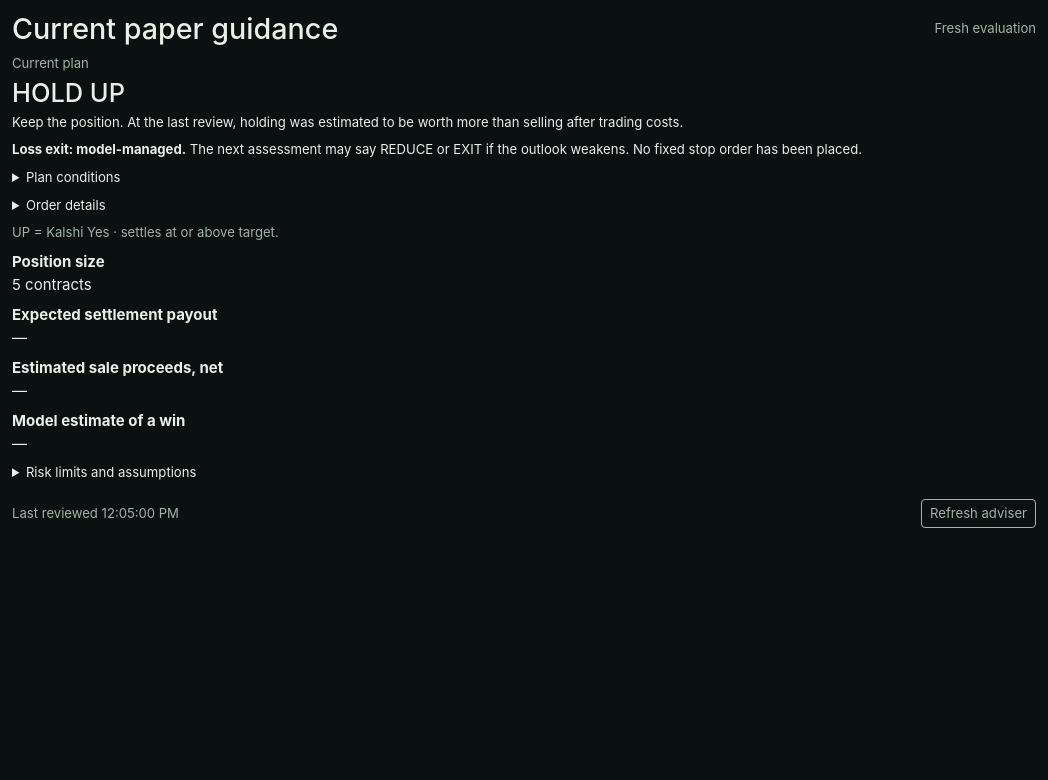
shows a valid HOLD alongside a separate cooldown blocker and review details
The image size is (1048, 780).
Check: the heading "HOLD UP" is shown, box [12,77,125,108]
Click the heading "Order details" at (66, 205), box [26,197,106,213]
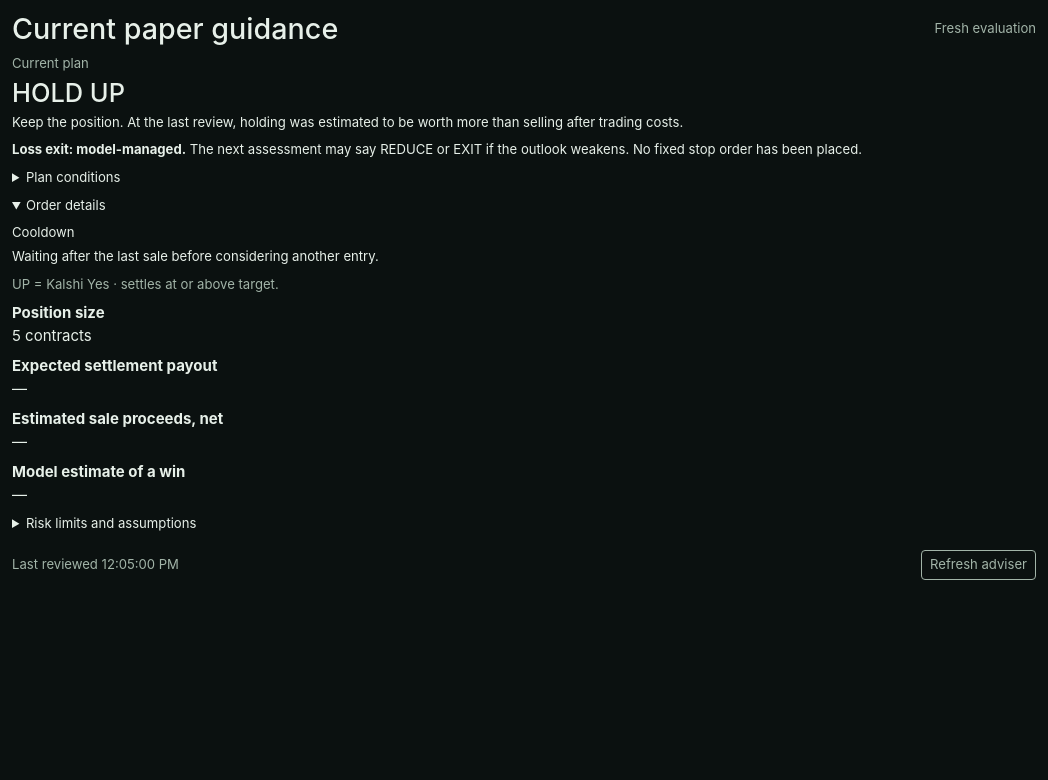
Check: the text "Last reviewed 12:05:00 PM" is shown, box [12,555,179,575]
Check: the text "Cooldown" is shown, box [12,224,75,240]
Check: the text "Waiting after the last sale" is shown, box [12,248,379,264]
Click the heading "Plan conditions" at (73, 177), box [26,169,120,185]
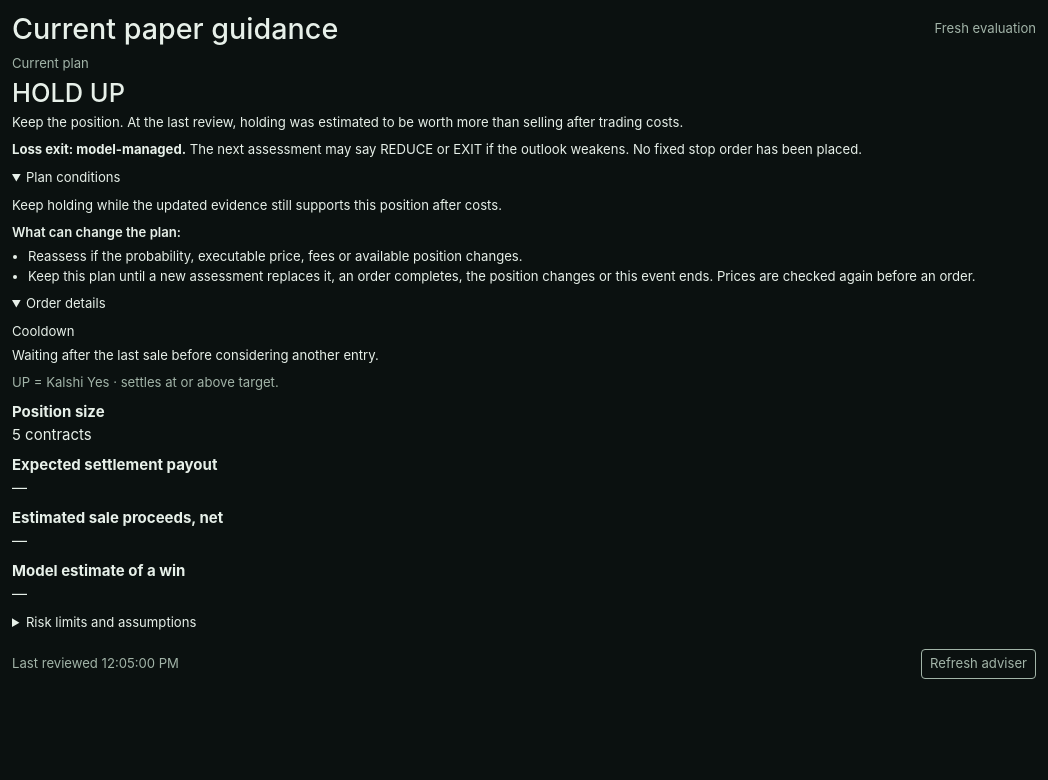
Check: the text "Keep holding while the updated evidence" is shown, box [12,197,502,213]
Check: the list item "probability, executable price, fees or available position changes" is shown, box [28,248,522,264]
